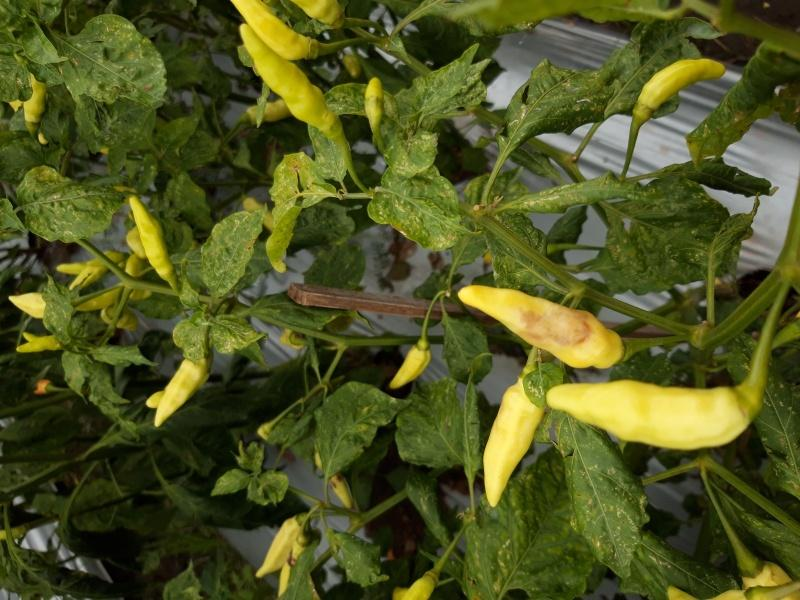antraknosa: (457, 285, 623, 371)
cabai_normal: (548, 377, 754, 450), (481, 371, 552, 507), (244, 28, 331, 130), (231, 1, 310, 62), (639, 56, 724, 111), (150, 356, 210, 429), (130, 195, 174, 278), (254, 517, 301, 577), (393, 343, 430, 388)
